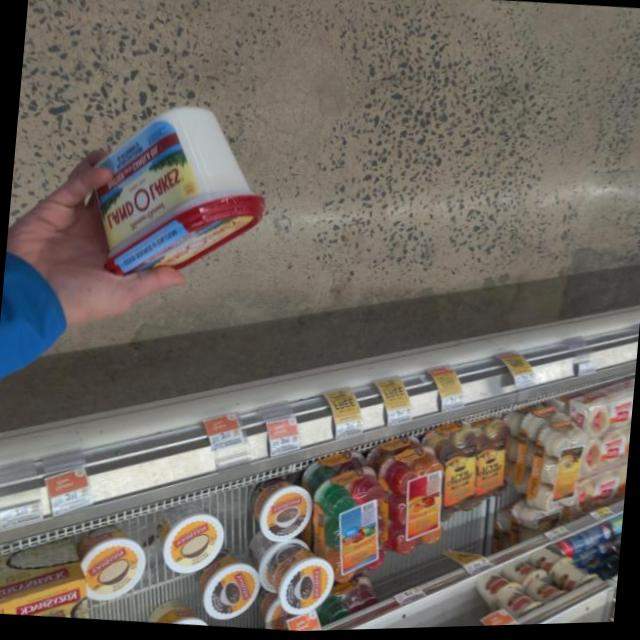Butter: (82, 76, 264, 305)
